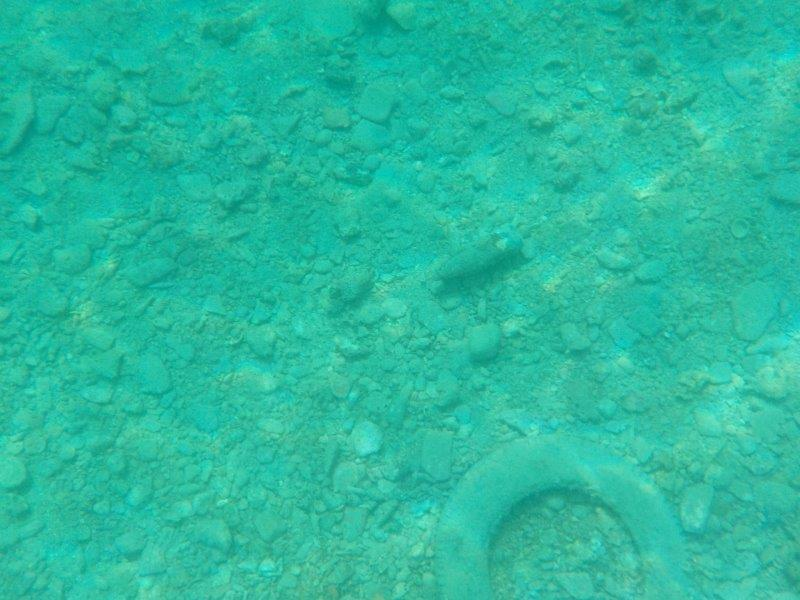bottle: (426, 221, 529, 292)
tire: (426, 427, 700, 600)
